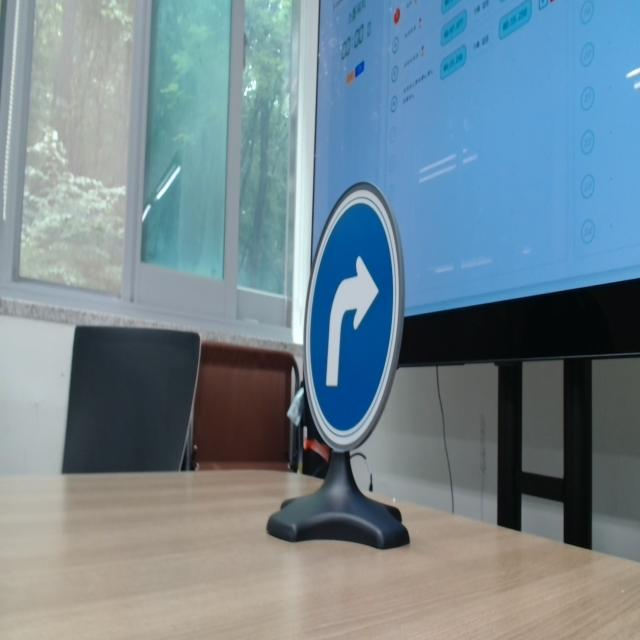right_dierection: (300, 177, 404, 450)
